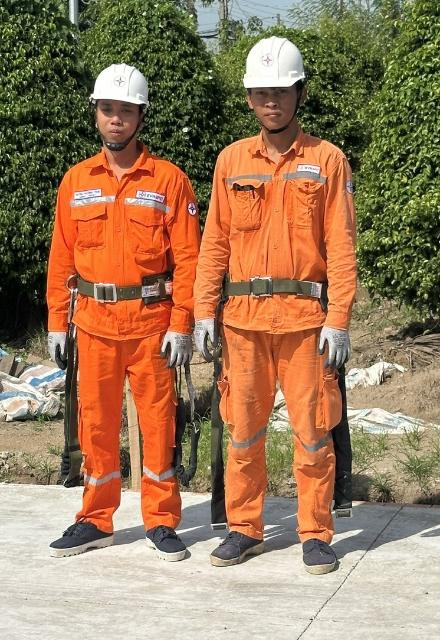gloves: (318, 324, 357, 376), (189, 316, 226, 368), (160, 327, 197, 370), (45, 324, 77, 372)
harness: (65, 263, 192, 311), (211, 266, 337, 310)
helmet: (242, 13, 308, 94), (87, 44, 158, 117)
shoes: (41, 514, 122, 557), (206, 523, 282, 568), (291, 529, 351, 583), (136, 512, 194, 567)
